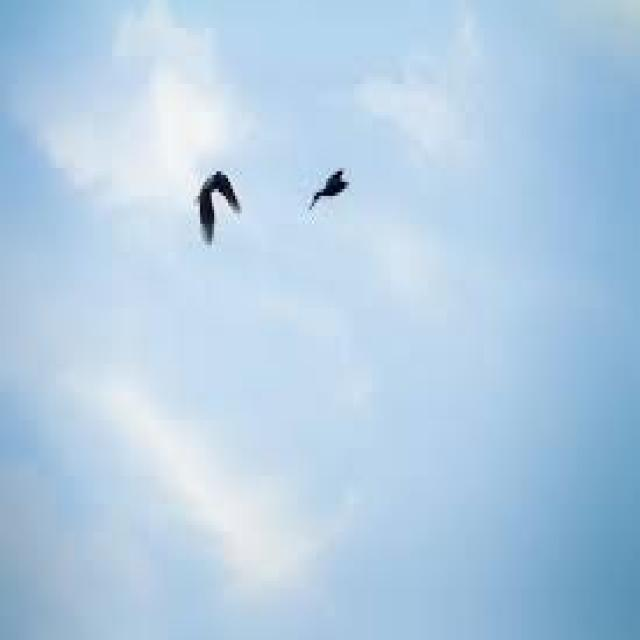bird: (174, 124, 260, 282), (307, 137, 389, 266)
